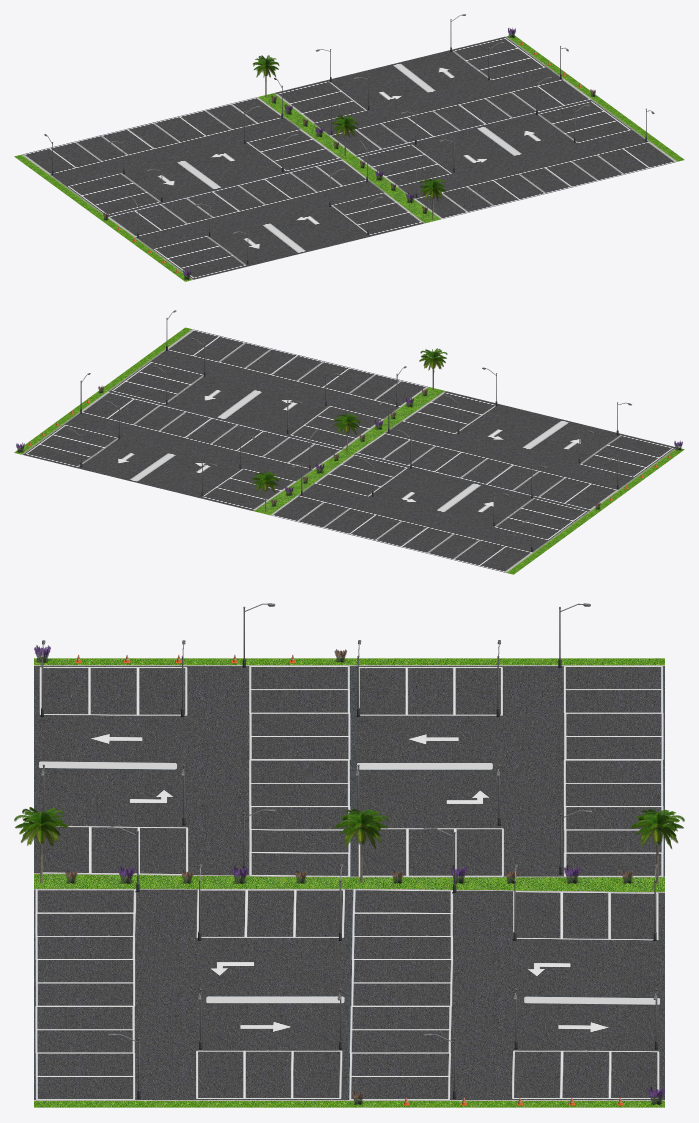
Rendered from modern_parking_area.glb.
The picture shows the model from 3 angles, top to bottom: view 1: azimuth 30°, elevation 25°; view 2: azimuth 150°, elevation 25°; view 3: azimuth 270°, elevation 25°; orthographic projection. The views are drawn at different scales.
Visible parts, largest first — view 1: Parking Area_Parking_Area_Tex_0, Vegetation_Vegetation_Atlas_0, Parking Area_Props_Atlas_0; view 2: Parking Area_Parking_Area_Tex_0, Vegetation_Vegetation_Atlas_0, Parking Area_Props_Atlas_0; view 3: Parking Area_Parking_Area_Tex_0, Vegetation_Vegetation_Atlas_0, Parking Area_Props_Atlas_0.
Boxes of the visible parts, x1,y1,x2,y2 form: Parking Area_Parking_Area_Tex_0: [14, 35, 684, 281]; Vegetation_Vegetation_Atlas_0: [103, 28, 595, 279]; Parking Area_Props_Atlas_0: [44, 14, 654, 272]; Parking Area_Parking_Area_Tex_0: [14, 327, 684, 574]; Vegetation_Vegetation_Atlas_0: [16, 348, 682, 512]; Parking Area_Props_Atlas_0: [28, 310, 670, 551]; Parking Area_Parking_Area_Tex_0: [34, 658, 664, 1107]; Vegetation_Vegetation_Atlas_0: [14, 645, 684, 1105]; Parking Area_Props_Atlas_0: [40, 603, 659, 1105].
Size of the model in its own units: 0.9788 by 0.0738 by 0.6174.
Materials: 3 (3 with a texture image).
